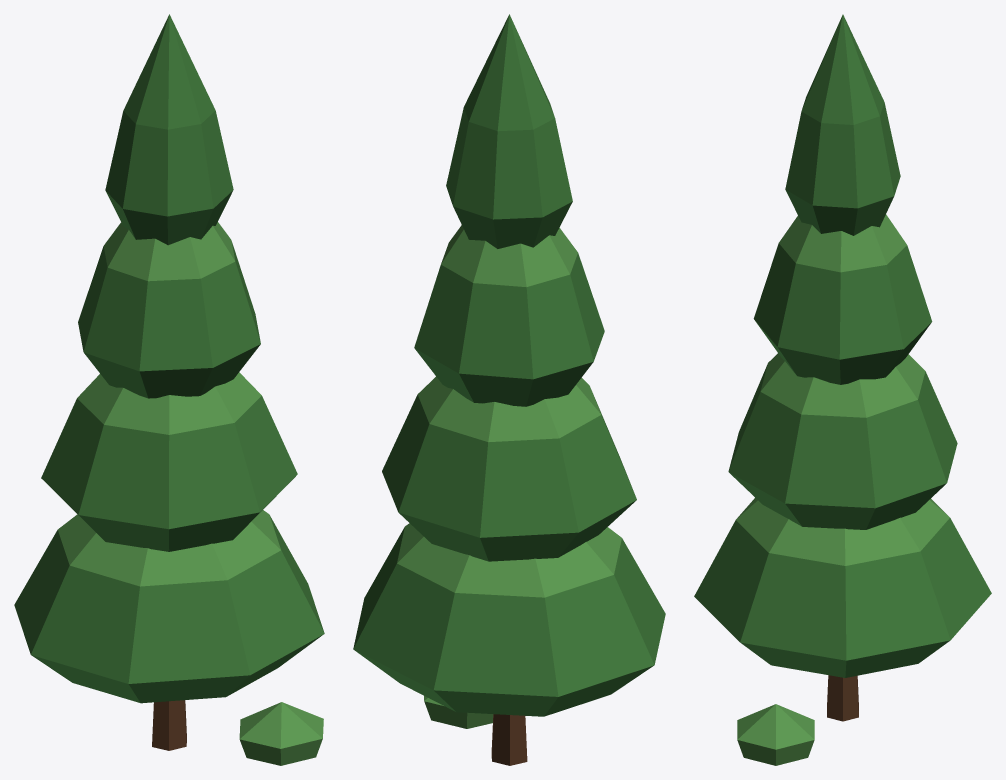
File: tree-high.glb
3 renders of one model, left to right at view 1: azimuth 30°, elevation 25°; view 2: azimuth 150°, elevation 25°; view 3: azimuth 270°, elevation 25°, orthographic. The views are drawn at different scales.
Visible parts, largest first — view 1: tree-high; view 2: tree-high; view 3: tree-high.
Part boxes in pixels (x1,y1,x2,y2): tree-high: (14, 14, 324, 765); tree-high: (353, 14, 665, 765); tree-high: (694, 14, 991, 765).
Size of the model in its own units: 0.92 by 2.28 by 0.88.
1 material, 1 textured.
